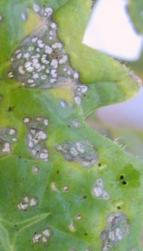Tomato Septoria leaf spot: (0, 24, 143, 242)
